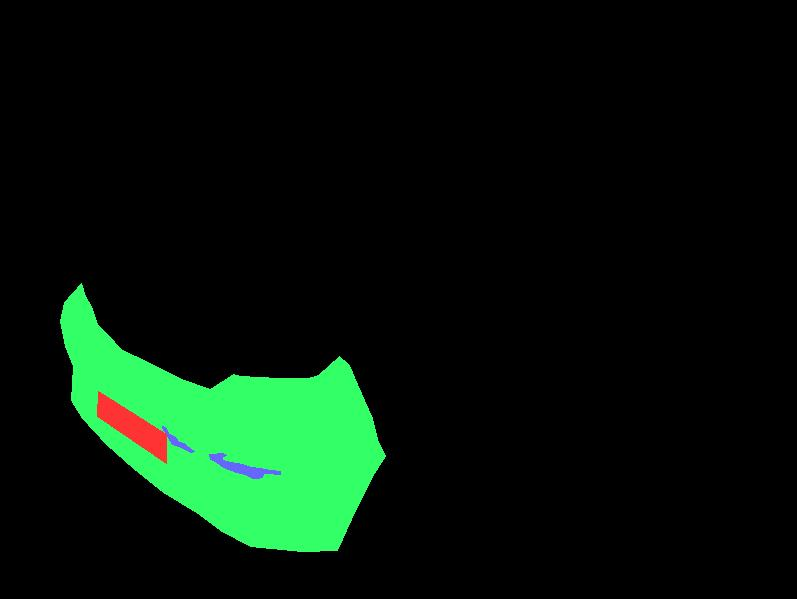Broken part: (60, 283, 385, 551)
Missing part: (97, 391, 166, 463)
Scratch: (280, 463, 357, 499), (209, 453, 280, 478), (318, 463, 357, 492), (312, 379, 342, 408), (162, 426, 194, 452), (278, 479, 291, 497)
